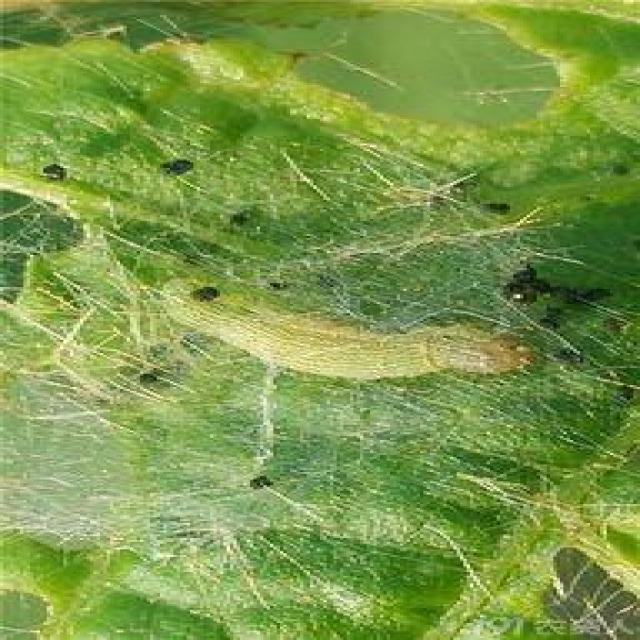BeetArmyWorm-Larva-: (146, 271, 548, 392)
